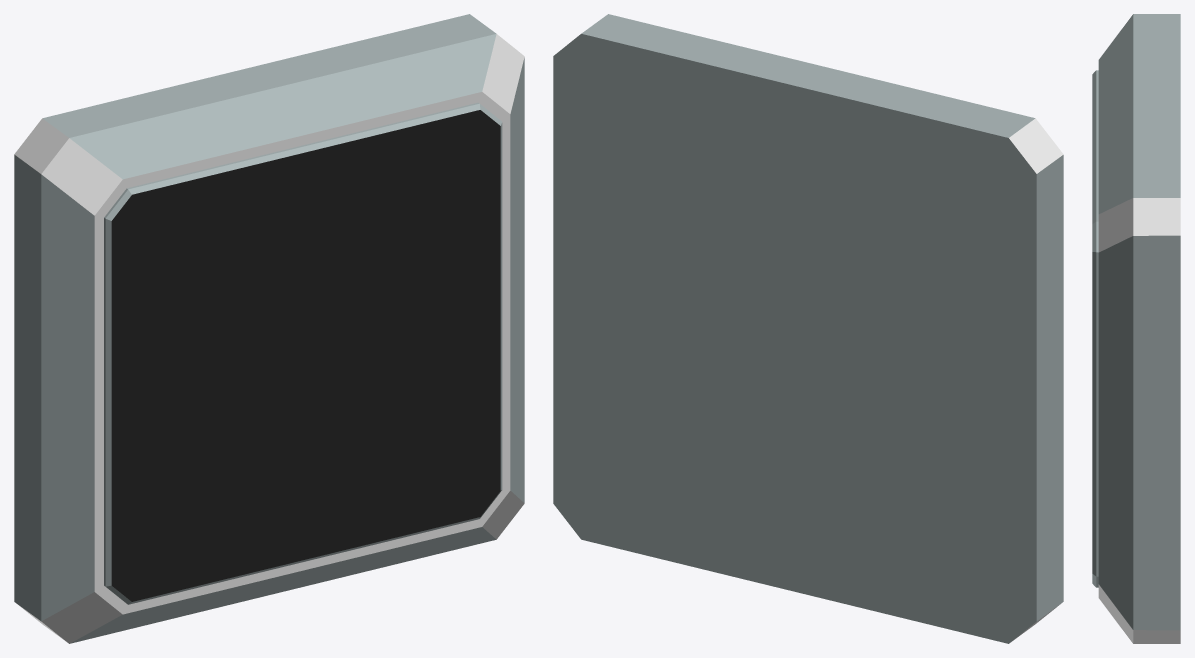
Rendered from Television-3.fbx.
3 views of the same model, side by side, from view 1: azimuth 30°, elevation 25°; view 2: azimuth 150°, elevation 25°; view 3: azimuth 270°, elevation 25° (orthographic). The views are drawn at different scales.
Visible parts, largest first — view 1: Television-3; view 2: Television-3; view 3: Television-3.
Part boxes in pixels (x1,y1,x2,y2): Television-3: (14, 14, 524, 643); Television-3: (553, 14, 1063, 643); Television-3: (1092, 14, 1180, 643).
Size of the model in its own units: 3 by 3 by 0.5399.
